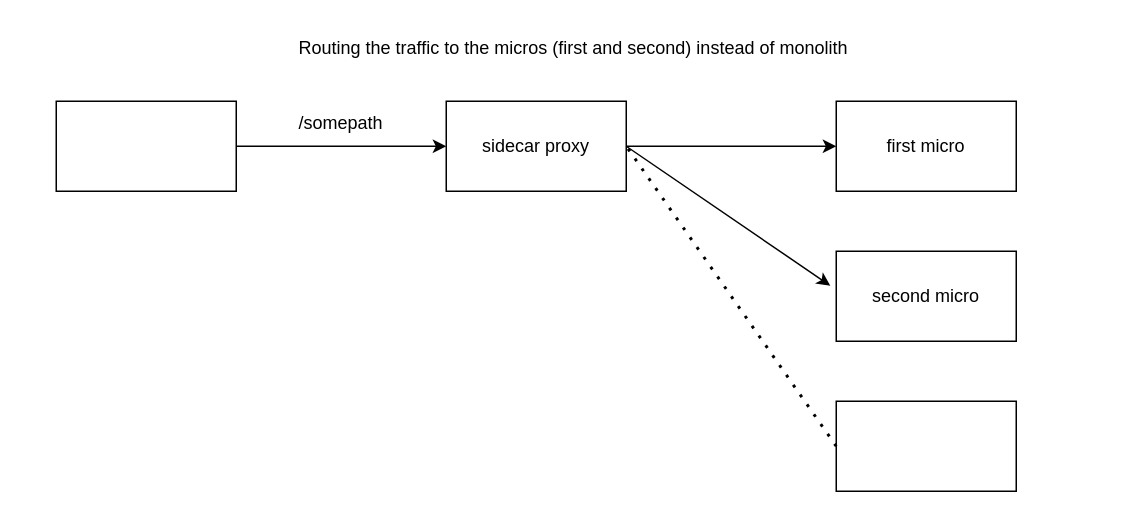
Some shapes in this 1146 by 518 pixel diagram are drawn without their labels. The shapes that lost their labels are listed below. From the top down, each one's centre as x and y in pixels, then its label:
the point at 145,145: app
the point at 925,445: monolith
